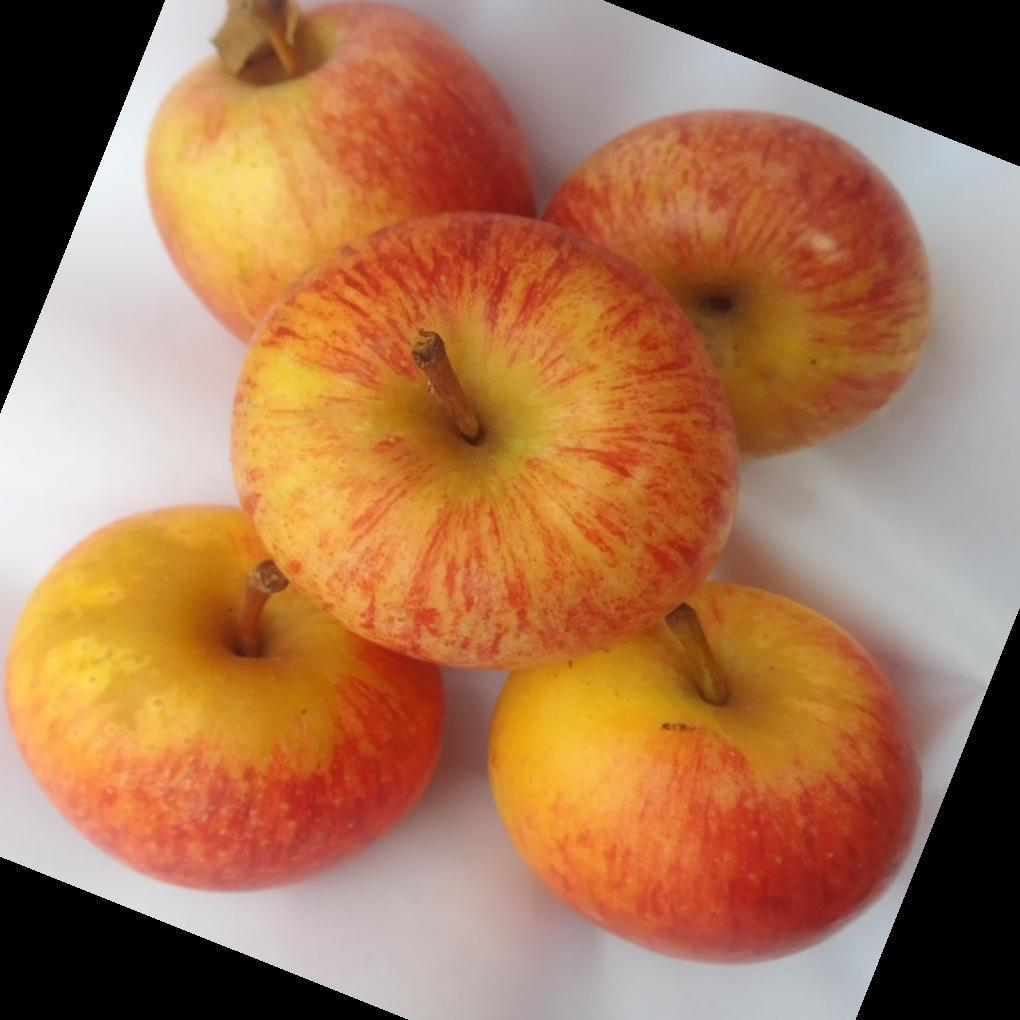FreshGuava: (5, 0, 931, 967)
